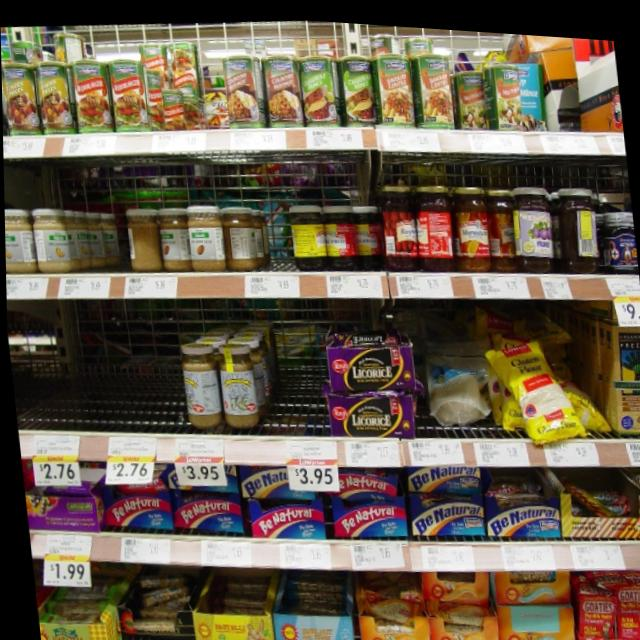q55: (605, 309, 640, 432)
